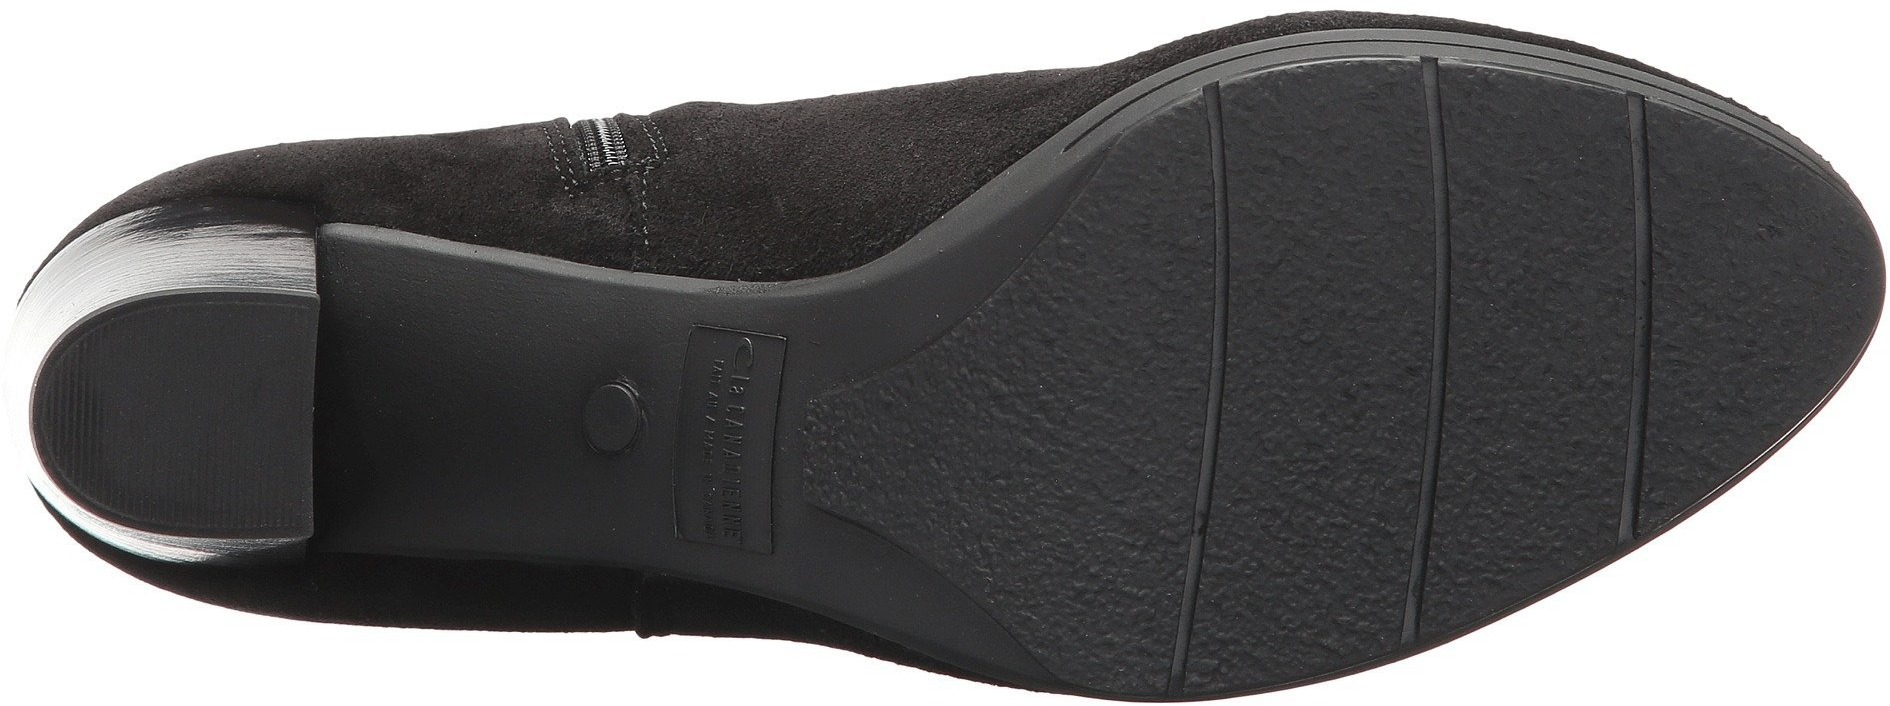line: (1587, 380, 1694, 500)
other: (929, 360, 1154, 569), (1228, 316, 1426, 506), (1655, 194, 1855, 380), (1231, 77, 1420, 267), (1445, 171, 1633, 351), (1216, 520, 1383, 670), (1072, 213, 1210, 349), (65, 351, 180, 461), (184, 316, 306, 416), (189, 423, 305, 522)
